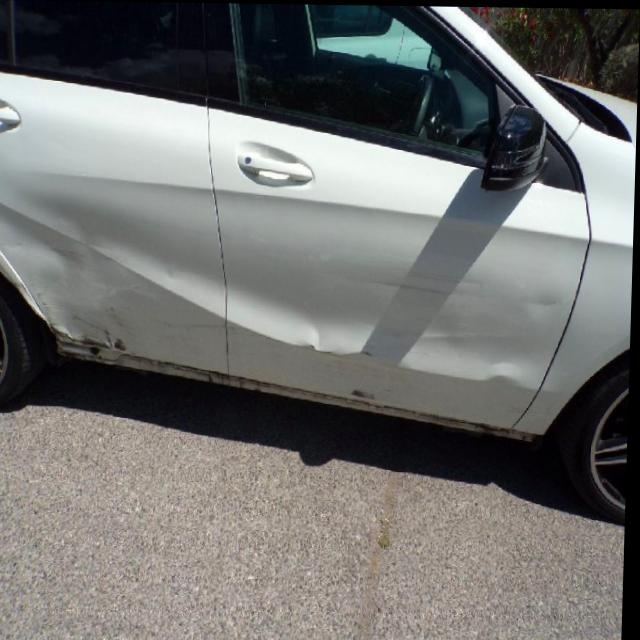porte-avant: (191, 2, 564, 445)
